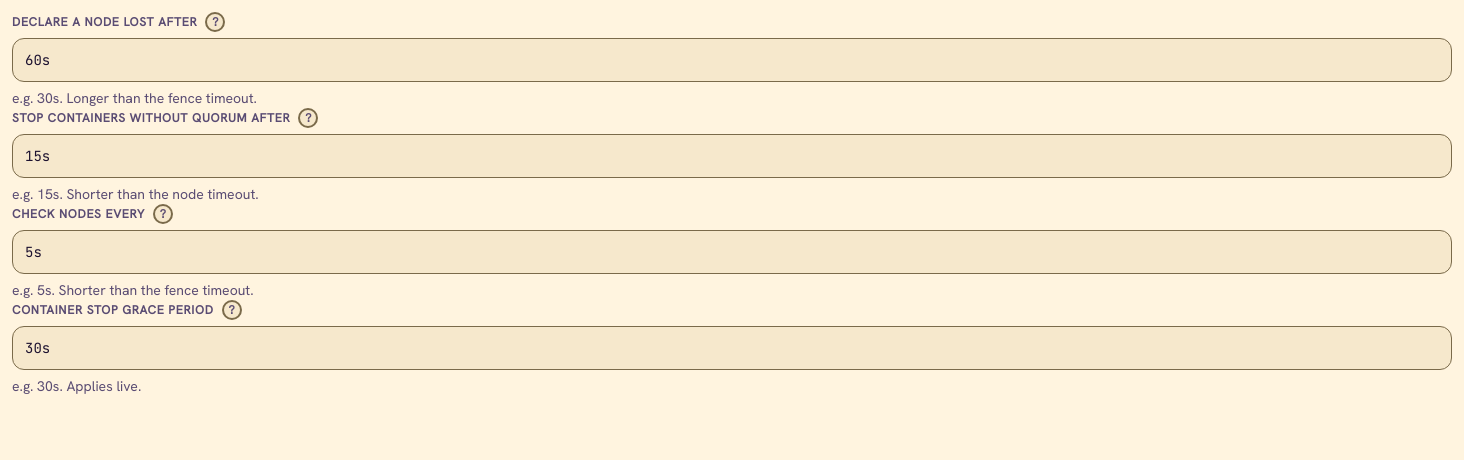
Test case: FailoverSection fence margin warning › appears and disappears as the fields are edited
Type "45s" into the field labelled "Container stop grace period".
click(732, 348); type("45s")  # box [12,326,1452,370]
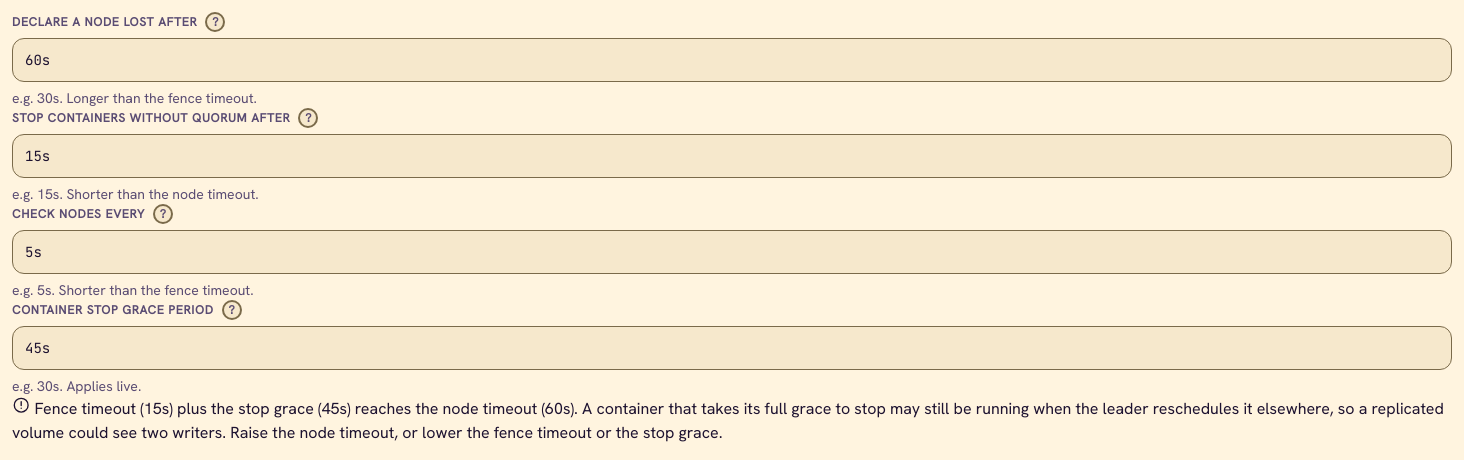
Expected: the message shows "two writers", [12,398,1444,443]
Replace the text in the field labelled "Declare a node lost after" with "2m" at (732, 60), box [12,38,1452,82]
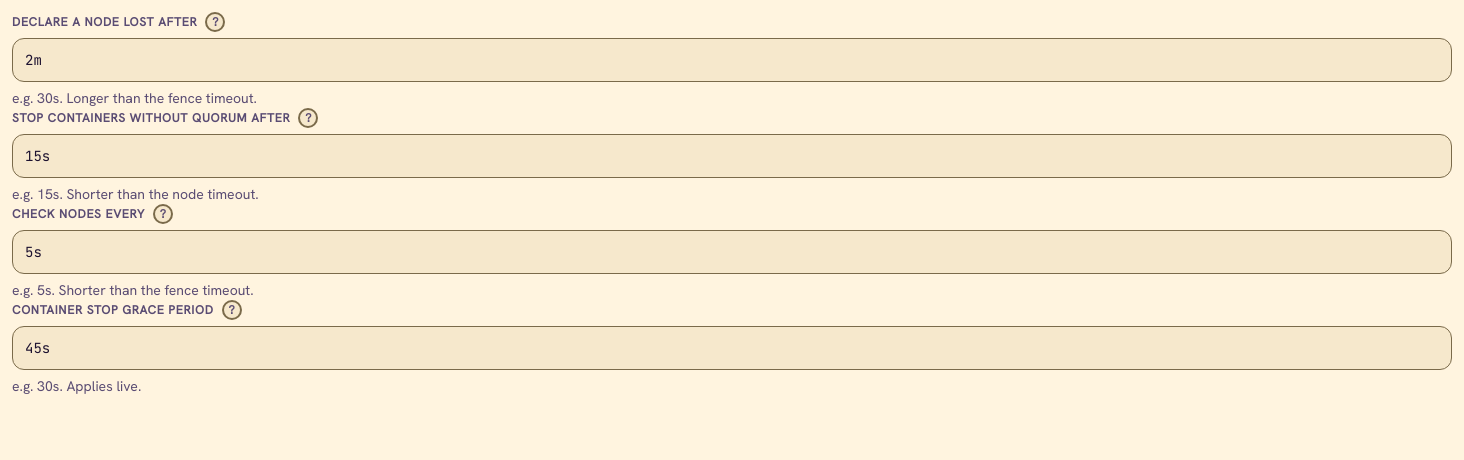
Expected: the message "Fence timeout (15s) plus the stop grace (45s) reaches the node timeout (60s). A" is gone
